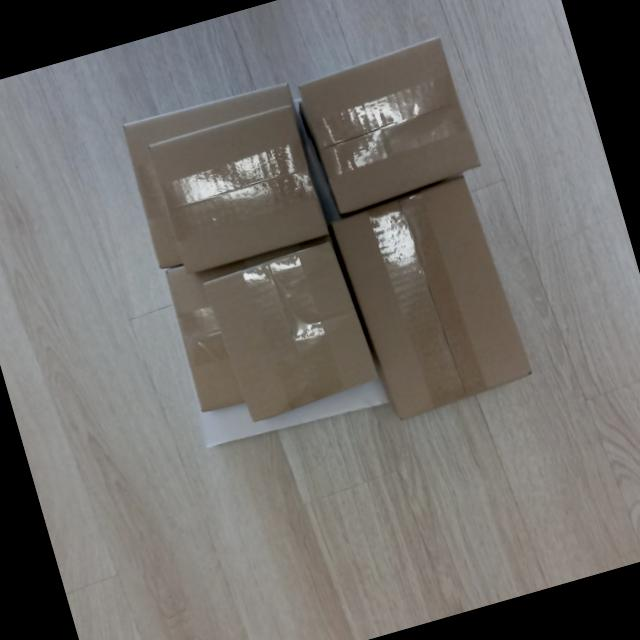box: (321, 167, 539, 429), (192, 232, 384, 431), (289, 31, 491, 217), (140, 96, 336, 277)
